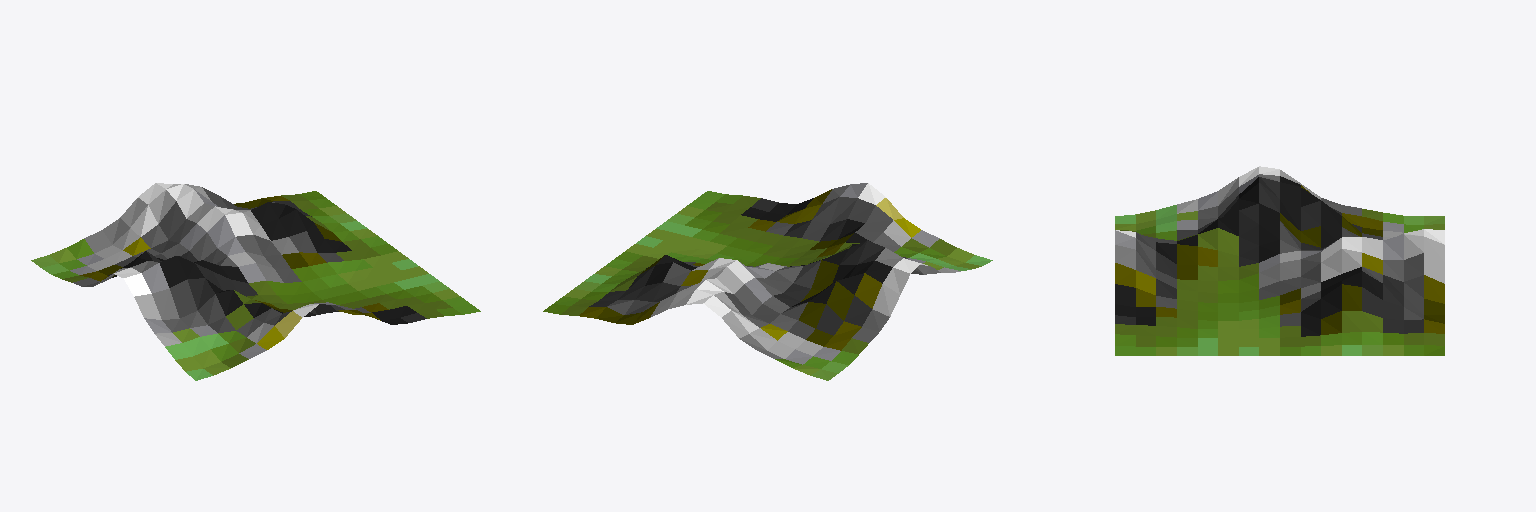
3 renders of one model, left to right at view 1: azimuth 30°, elevation 25°; view 2: azimuth 150°, elevation 25°; view 3: azimuth 270°, elevation 25°, orthographic.
Parts seen in each view (by area): view 1: mountains13; view 2: mountains13; view 3: mountains13.
Part boxes in pixels (bbox=[...]): mountains13: bbox=[31, 183, 480, 380]; mountains13: bbox=[543, 183, 992, 380]; mountains13: bbox=[1115, 166, 1444, 355].
Size of the model in its own units: 1 by 0.2002 by 1.
Materials: 2 (1 with a texture image).